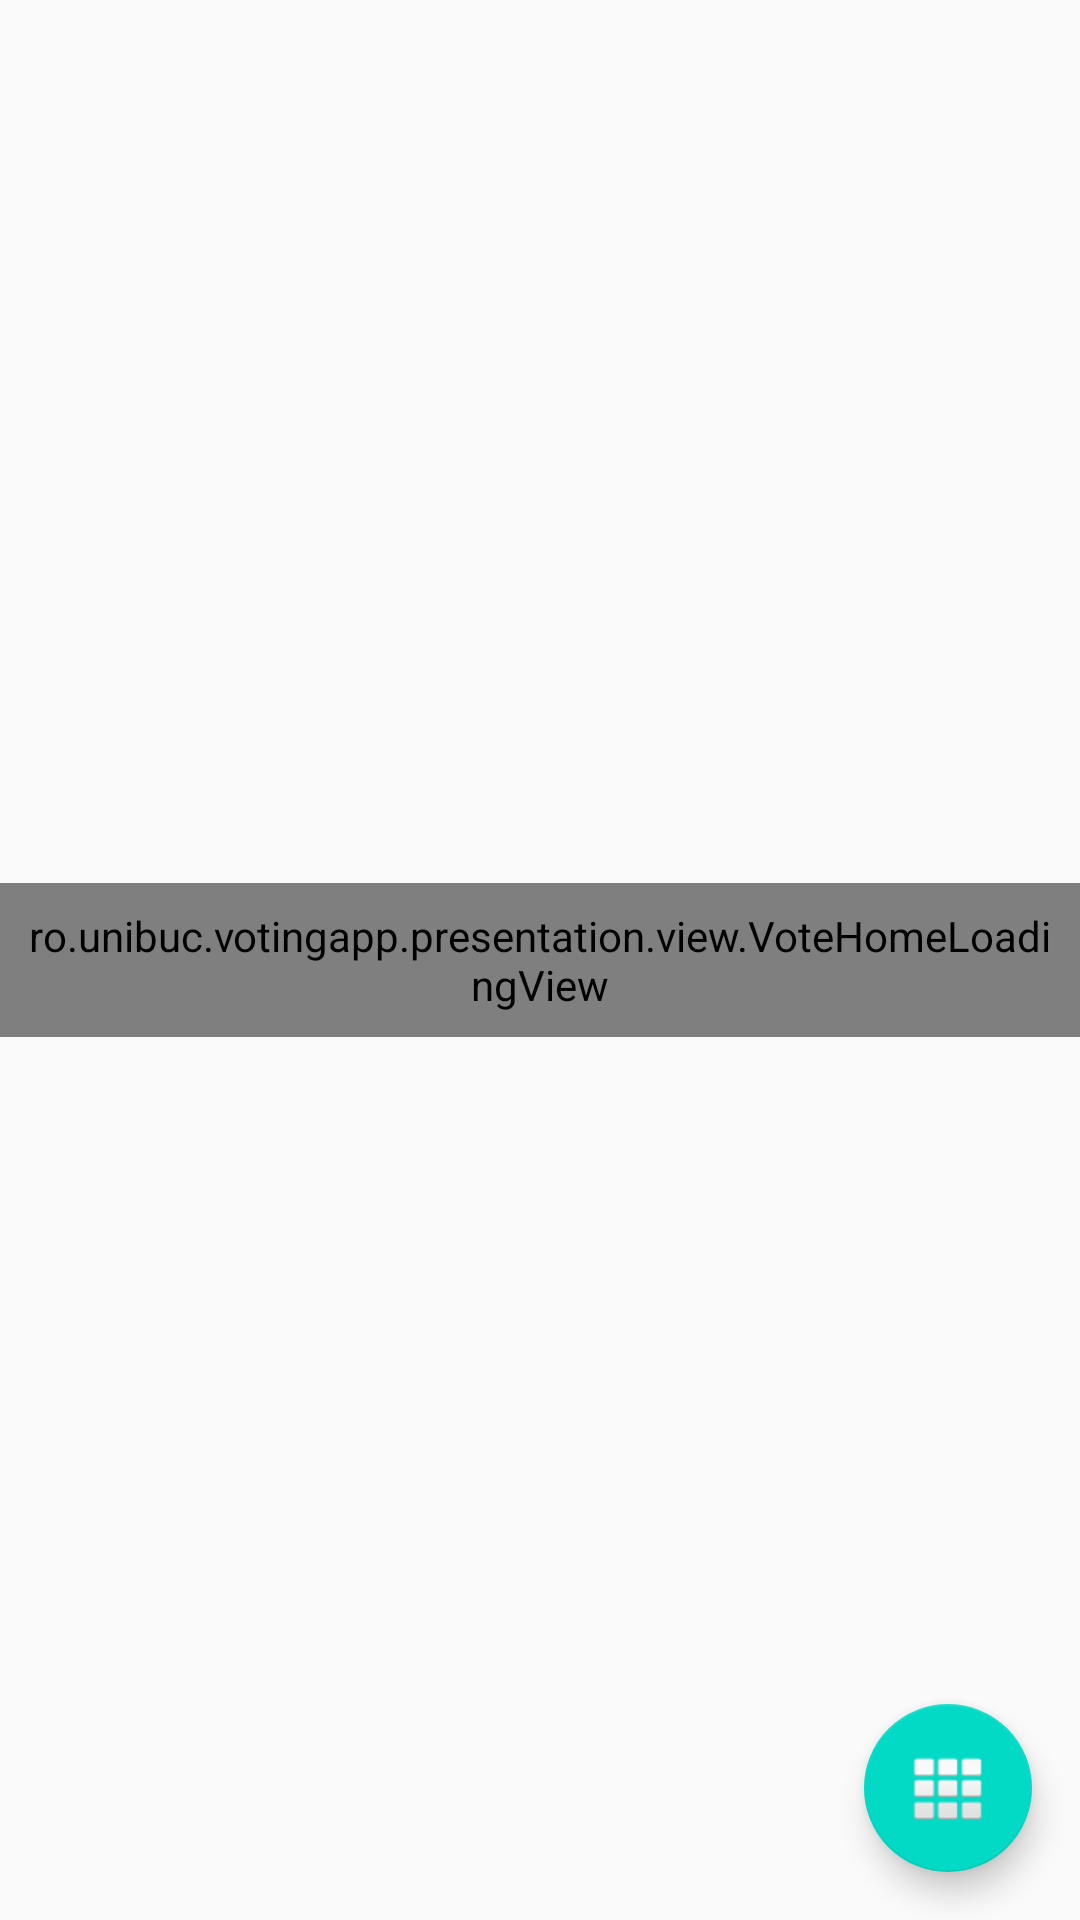

Screen size 1080×1920. Icon name, then its center in pixels as [x,y]:
Floating Button for Score Board: [948,1788]
